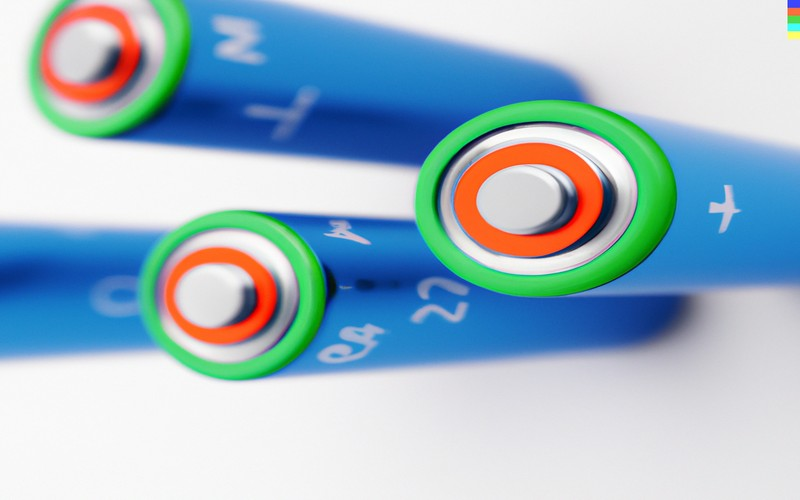Battery: (121, 181, 714, 404), (371, 86, 800, 304)
